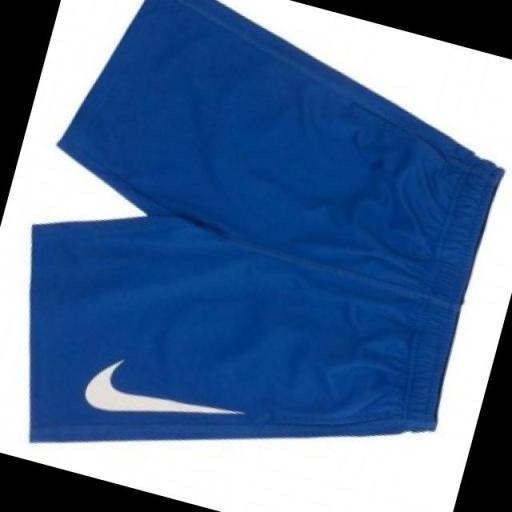Nike: (72, 344, 254, 454)
